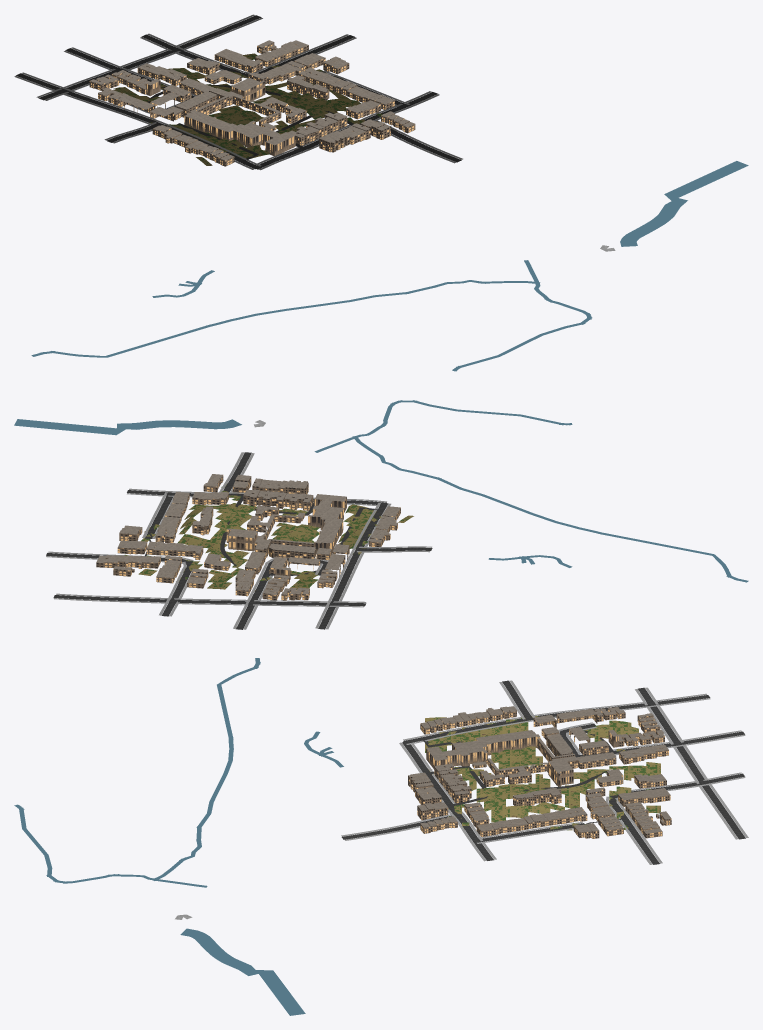
The model's file is tile_33_-8.gltf.
3 renders of one model, top to bottom at view 1: azimuth 30°, elevation 25°; view 2: azimuth 150°, elevation 25°; view 3: azimuth 270°, elevation 25°, orthographic. The views are drawn at different scales.
Parts seen in each view (by area): view 1: Buildings_col, Roads, Water, Sidewalks, Terrain_col; view 2: Buildings_col, Roads, Terrain_col, Water, Sidewalks; view 3: Buildings_col, Terrain_col, Roads, Sidewalks, Water.
Part boxes in pixels (x1=…): Buildings_col: x1=89, y1=40, x2=415, y2=166; Roads: x1=16, y1=15, x2=461, y2=169; Water: x1=31, y1=161, x2=748, y2=371; Sidewalks: x1=14, y1=14, x2=462, y2=170; Terrain_col: x1=113, y1=53, x2=396, y2=165; Buildings_col: x1=96, y1=474, x2=400, y2=600; Roads: x1=46, y1=452, x2=432, y2=629; Terrain_col: x1=124, y1=483, x2=413, y2=591; Water: x1=14, y1=400, x2=748, y2=582; Sidewalks: x1=46, y1=452, x2=431, y2=629; Buildings_col: x1=408, y1=706, x2=671, y2=838; Terrain_col: x1=425, y1=716, x2=660, y2=830; Roads: x1=341, y1=680, x2=745, y2=864; Sidewalks: x1=341, y1=680, x2=748, y2=864; Water: x1=14, y1=658, x2=343, y2=1015.
Size of the model in its own units: 919 by 89.62 by 797.
6 materials, 5 textured.
